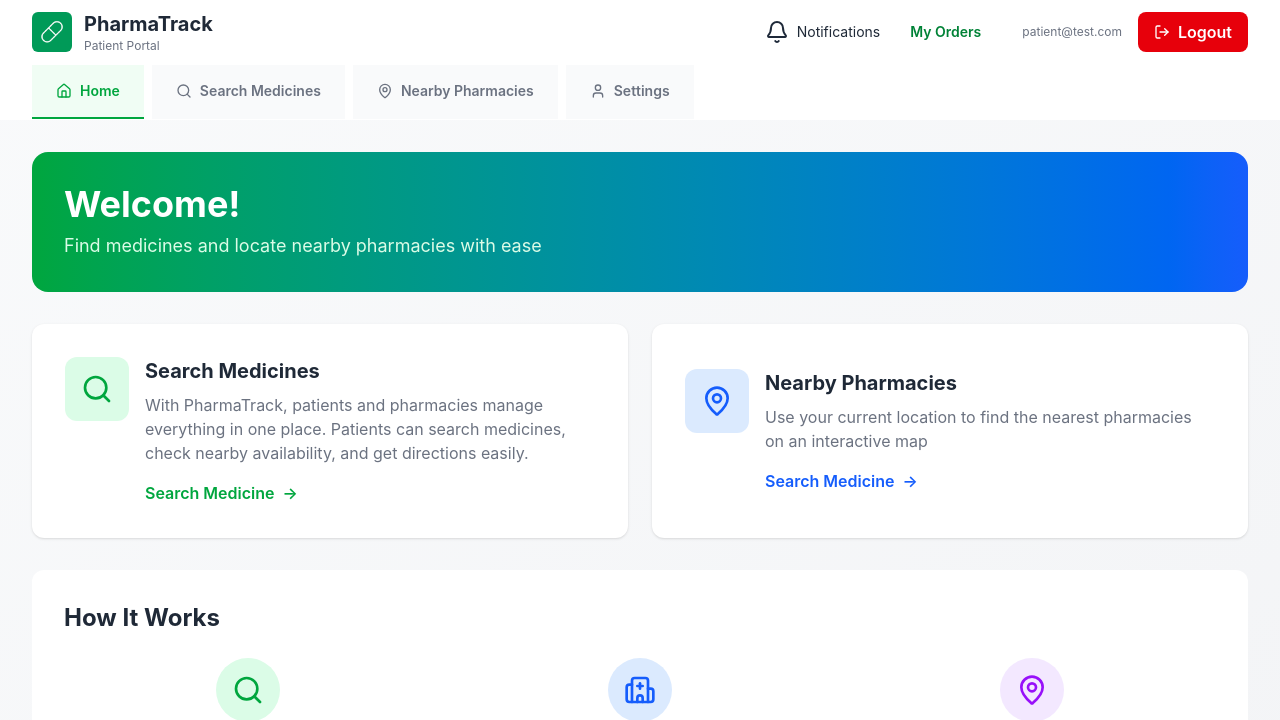
Test: Order Authorization - Patient Only › test_place_order_requires_patient - Patient can access order features
Click to navigate to medicine search
Click the button "Search Medicines": x=249, y=92 left=152, top=65, right=345, bottom=119
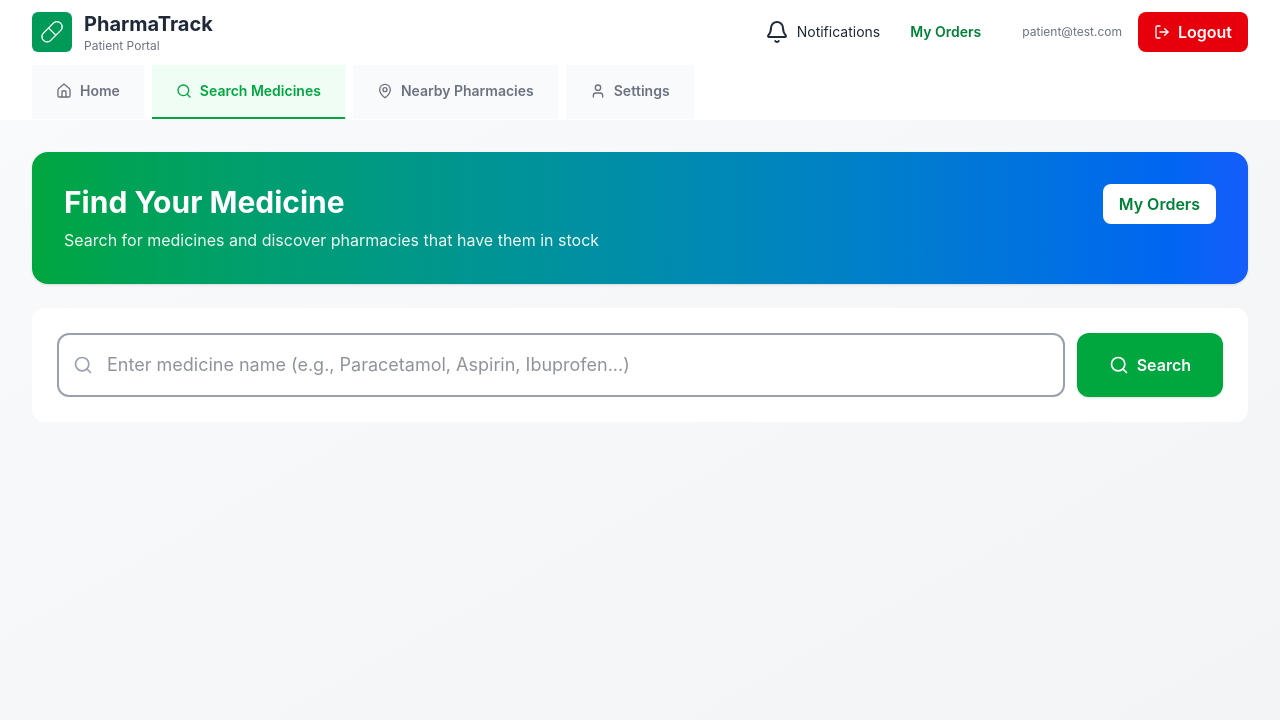
Result: the field is shown at left=57, top=333, right=1065, bottom=397
